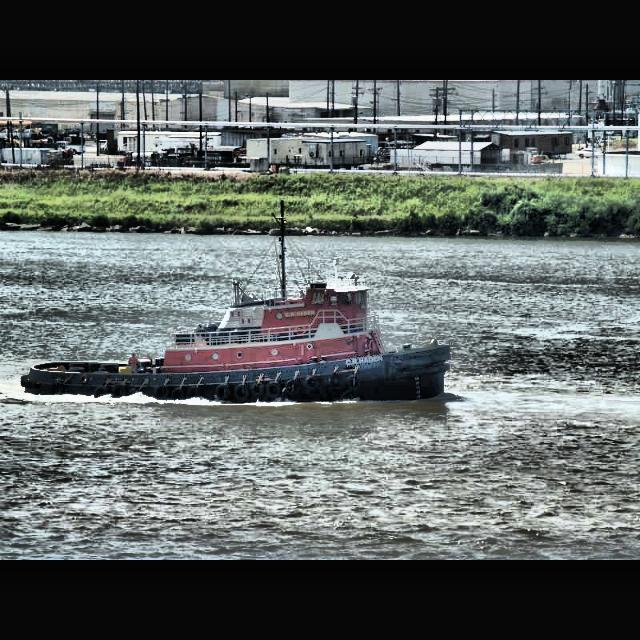tug: (19, 265, 454, 407)
